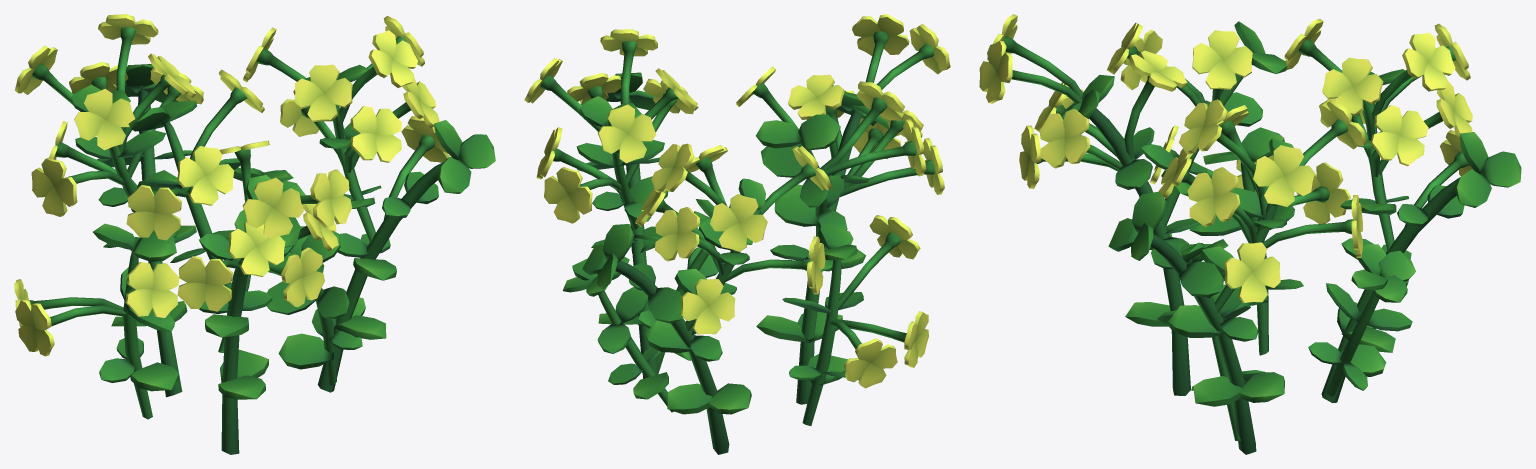
File: SM_Plant_BermudaButtercup_Lv3.fbx
The picture shows the model from 3 angles, left to right: view 1: azimuth 30°, elevation 25°; view 2: azimuth 150°, elevation 25°; view 3: azimuth 270°, elevation 25°; orthographic projection. The views are drawn at different scales.
Visible parts, largest first — view 1: SM_Plant_BermudaButtercup_Lv3; view 2: SM_Plant_BermudaButtercup_Lv3; view 3: SM_Plant_BermudaButtercup_Lv3.
Boxes of the visible parts, <box> form: SM_Plant_BermudaButtercup_Lv3: <box>14,14,495,454</box>; SM_Plant_BermudaButtercup_Lv3: <box>524,14,950,454</box>; SM_Plant_BermudaButtercup_Lv3: <box>979,14,1521,454</box>.
Size of the model in its own units: 52.41 by 44.83 by 58.29.
